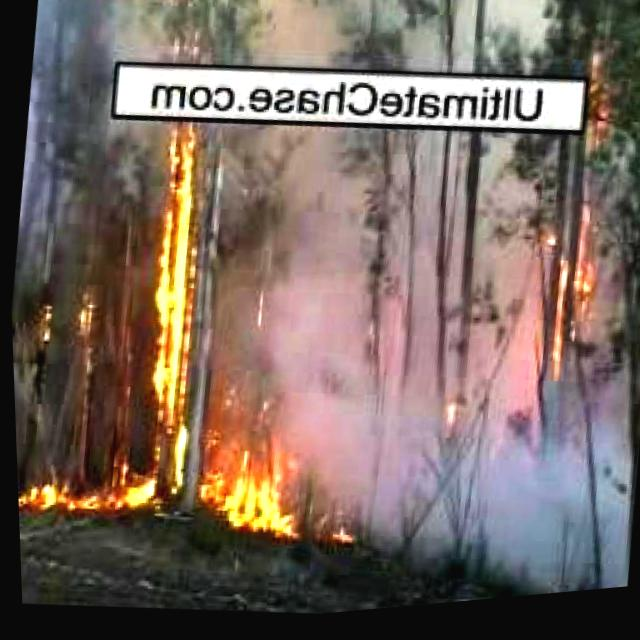Fire: (13, 430, 308, 554), (123, 116, 212, 456), (522, 232, 605, 407), (61, 283, 111, 387), (577, 54, 617, 134), (24, 303, 61, 352)
Smoke: (174, 101, 553, 466), (301, 376, 640, 620), (29, 0, 556, 118)
